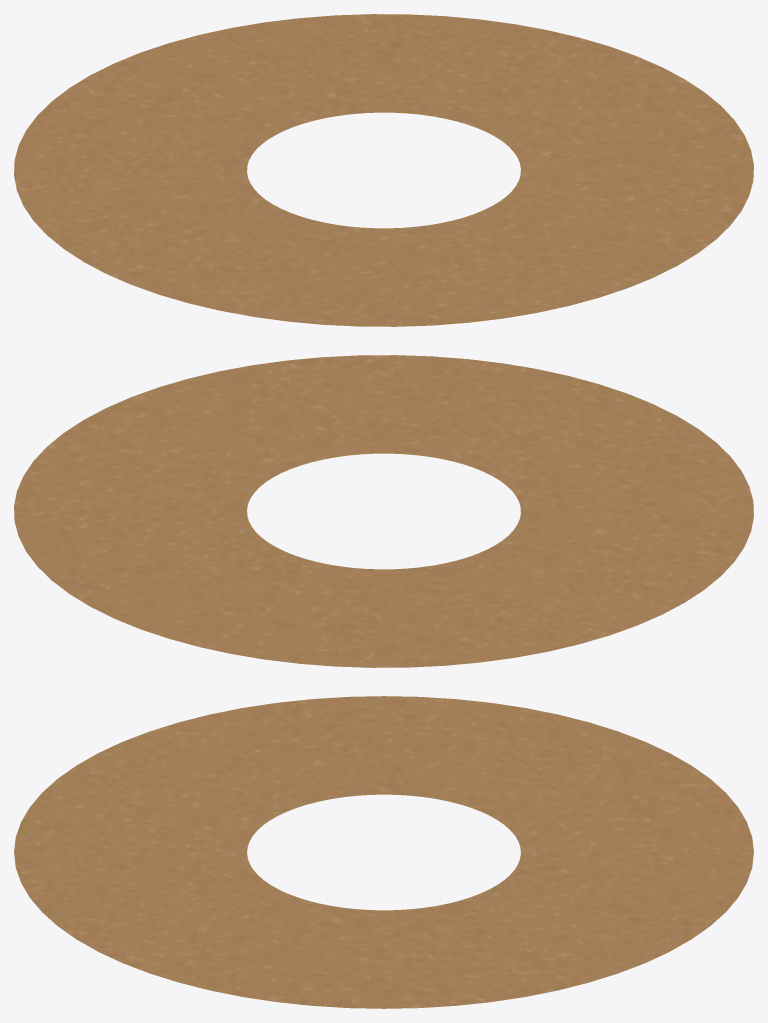
File: yard_outer.glb
3 renders of one model, top to bottom at view 1: azimuth 30°, elevation 25°; view 2: azimuth 150°, elevation 25°; view 3: azimuth 270°, elevation 25°, orthographic.
Parts seen in each view (by area): view 1: outer; view 2: outer; view 3: outer.
Part boxes in pixels (box(x1,y1,x2,y2)): outer: box(14, 14, 753, 326); outer: box(14, 355, 753, 667); outer: box(14, 696, 753, 1008).
Bounding box in the file's own units: 160 × 1.21e-05 × 160.
1 material, 1 textured.
